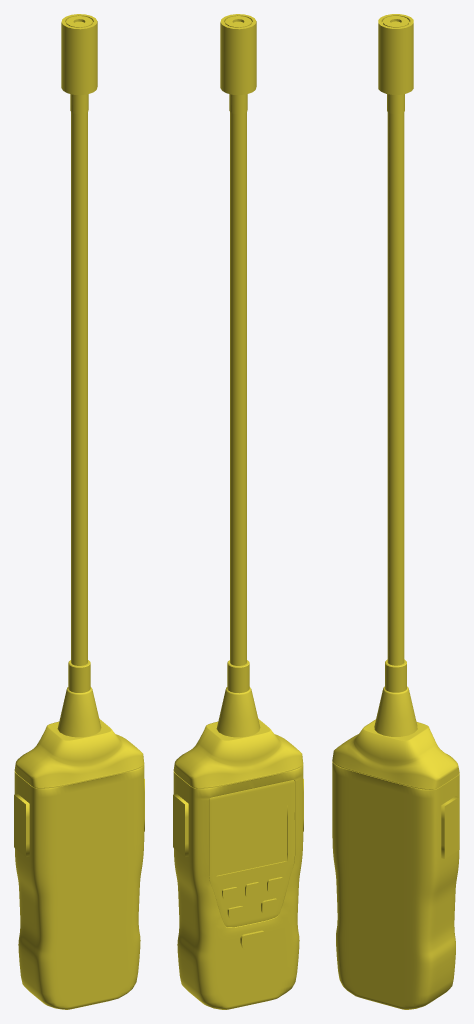
The model's file is GasAReverce.fbx.
3 renders of one model, left to right at view 1: azimuth 30°, elevation 25°; view 2: azimuth 210°, elevation 25°; view 3: azimuth 330°, elevation 25°, orthographic.
Parts seen in each view (by area): view 1: korpus, provod; view 2: korpus, provod, ekran, but6; view 3: korpus, provod.
Part boxes in pixels (box(x1,y1,x2,y2)): korpus: box(14, 719, 144, 1009); provod: box(57, 14, 101, 737); korpus: box(173, 719, 303, 1009); provod: box(216, 14, 260, 737); ekran: box(216, 805, 287, 875); but6: box(240, 930, 265, 951); korpus: box(332, 719, 459, 1009); provod: box(374, 14, 417, 736).
Bounding box in the file's own units: 84.29 × 674 × 42.19.
